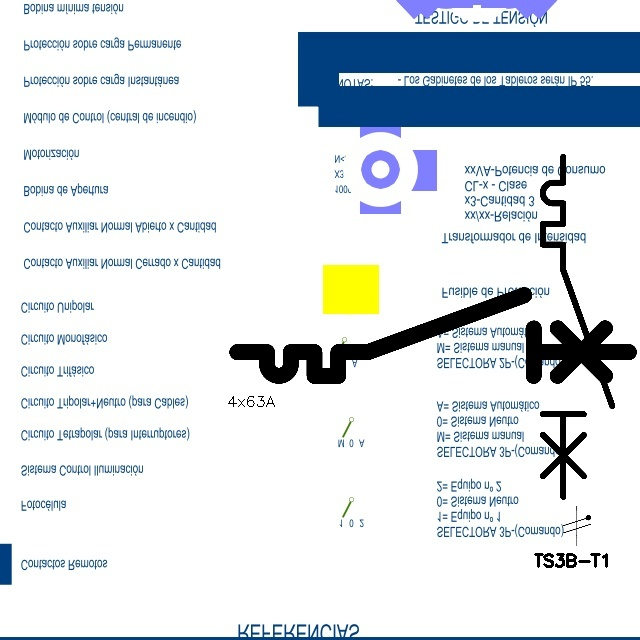interruptor_termomagnetico: (227, 285, 639, 386), (534, 148, 621, 505)
